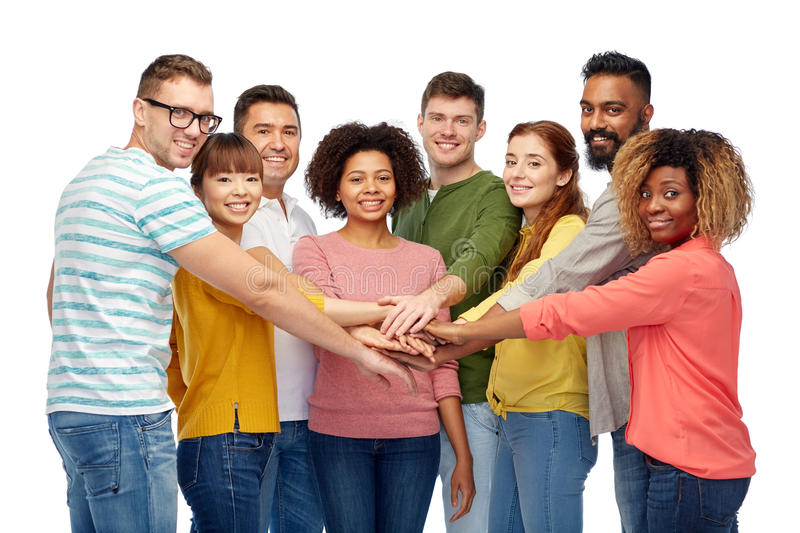without_mask: (158, 87, 211, 169), (576, 95, 635, 163), (632, 180, 694, 243), (424, 109, 478, 163), (500, 151, 550, 208), (249, 119, 297, 177), (344, 165, 392, 221), (212, 169, 261, 223)
